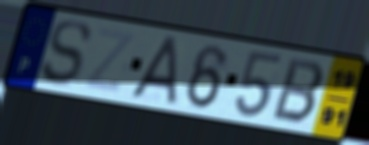5: (233, 49, 285, 120)
6: (185, 43, 230, 111)
A: (128, 34, 179, 106)
B: (269, 55, 328, 127)
S: (39, 20, 94, 88)
Z: (81, 25, 139, 97)
